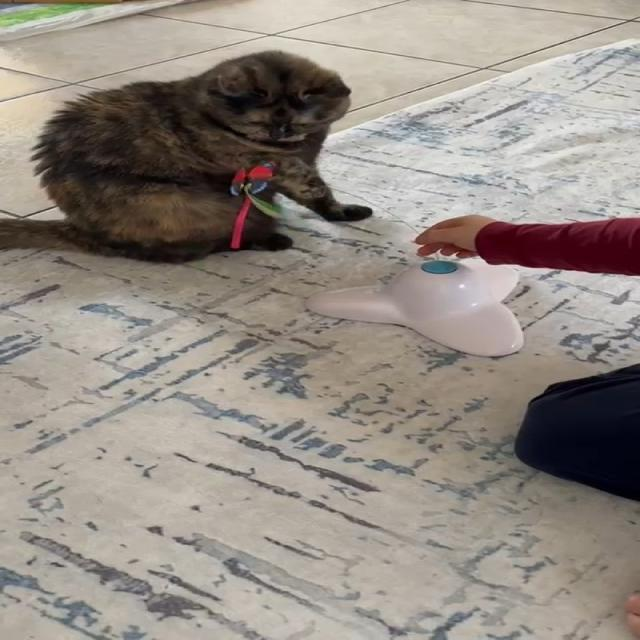authorized: (0, 48, 373, 264)
